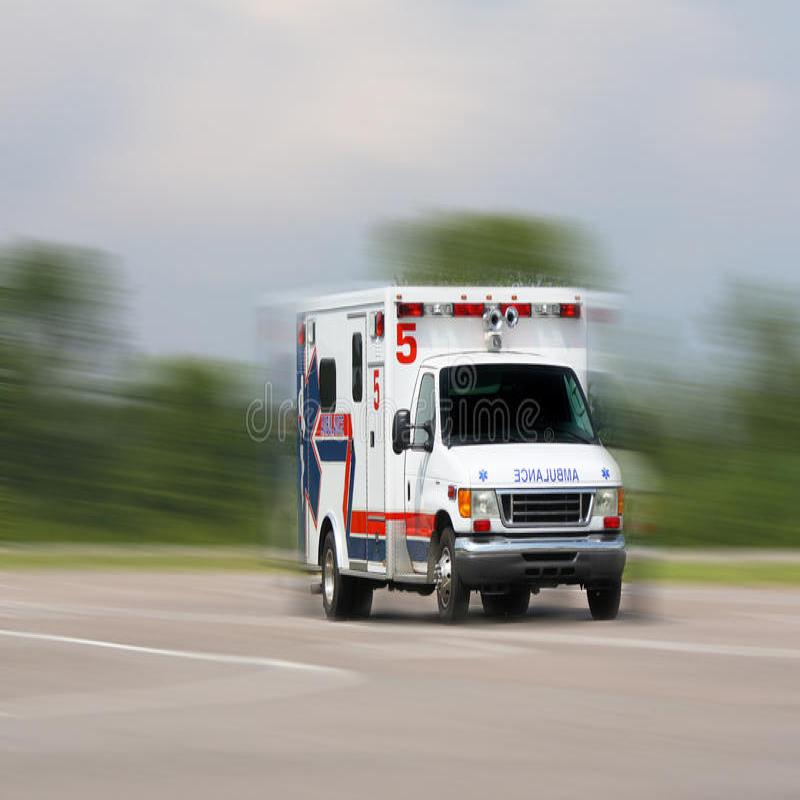ambulance: (290, 239, 659, 631)
